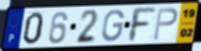0: (22, 11, 46, 46)
2: (76, 8, 101, 45)
6: (48, 10, 69, 45)
F: (128, 7, 157, 44)
G: (100, 9, 126, 43)
P: (152, 8, 179, 42)
